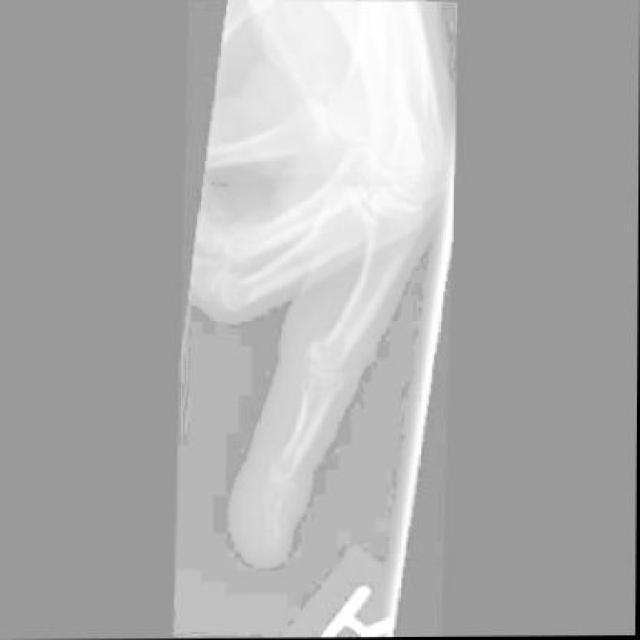Fracture: (263, 523, 283, 548)
